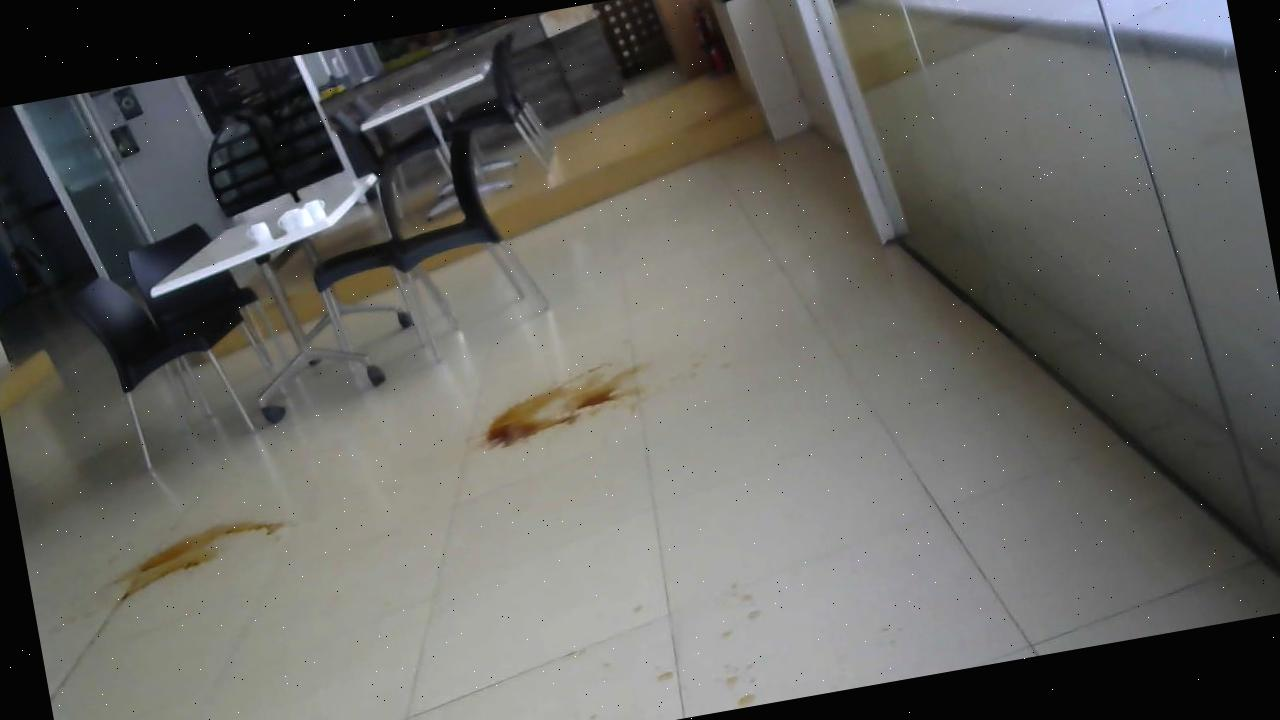dirty_floor: (86, 506, 304, 622), (462, 346, 656, 462), (692, 570, 781, 712)
